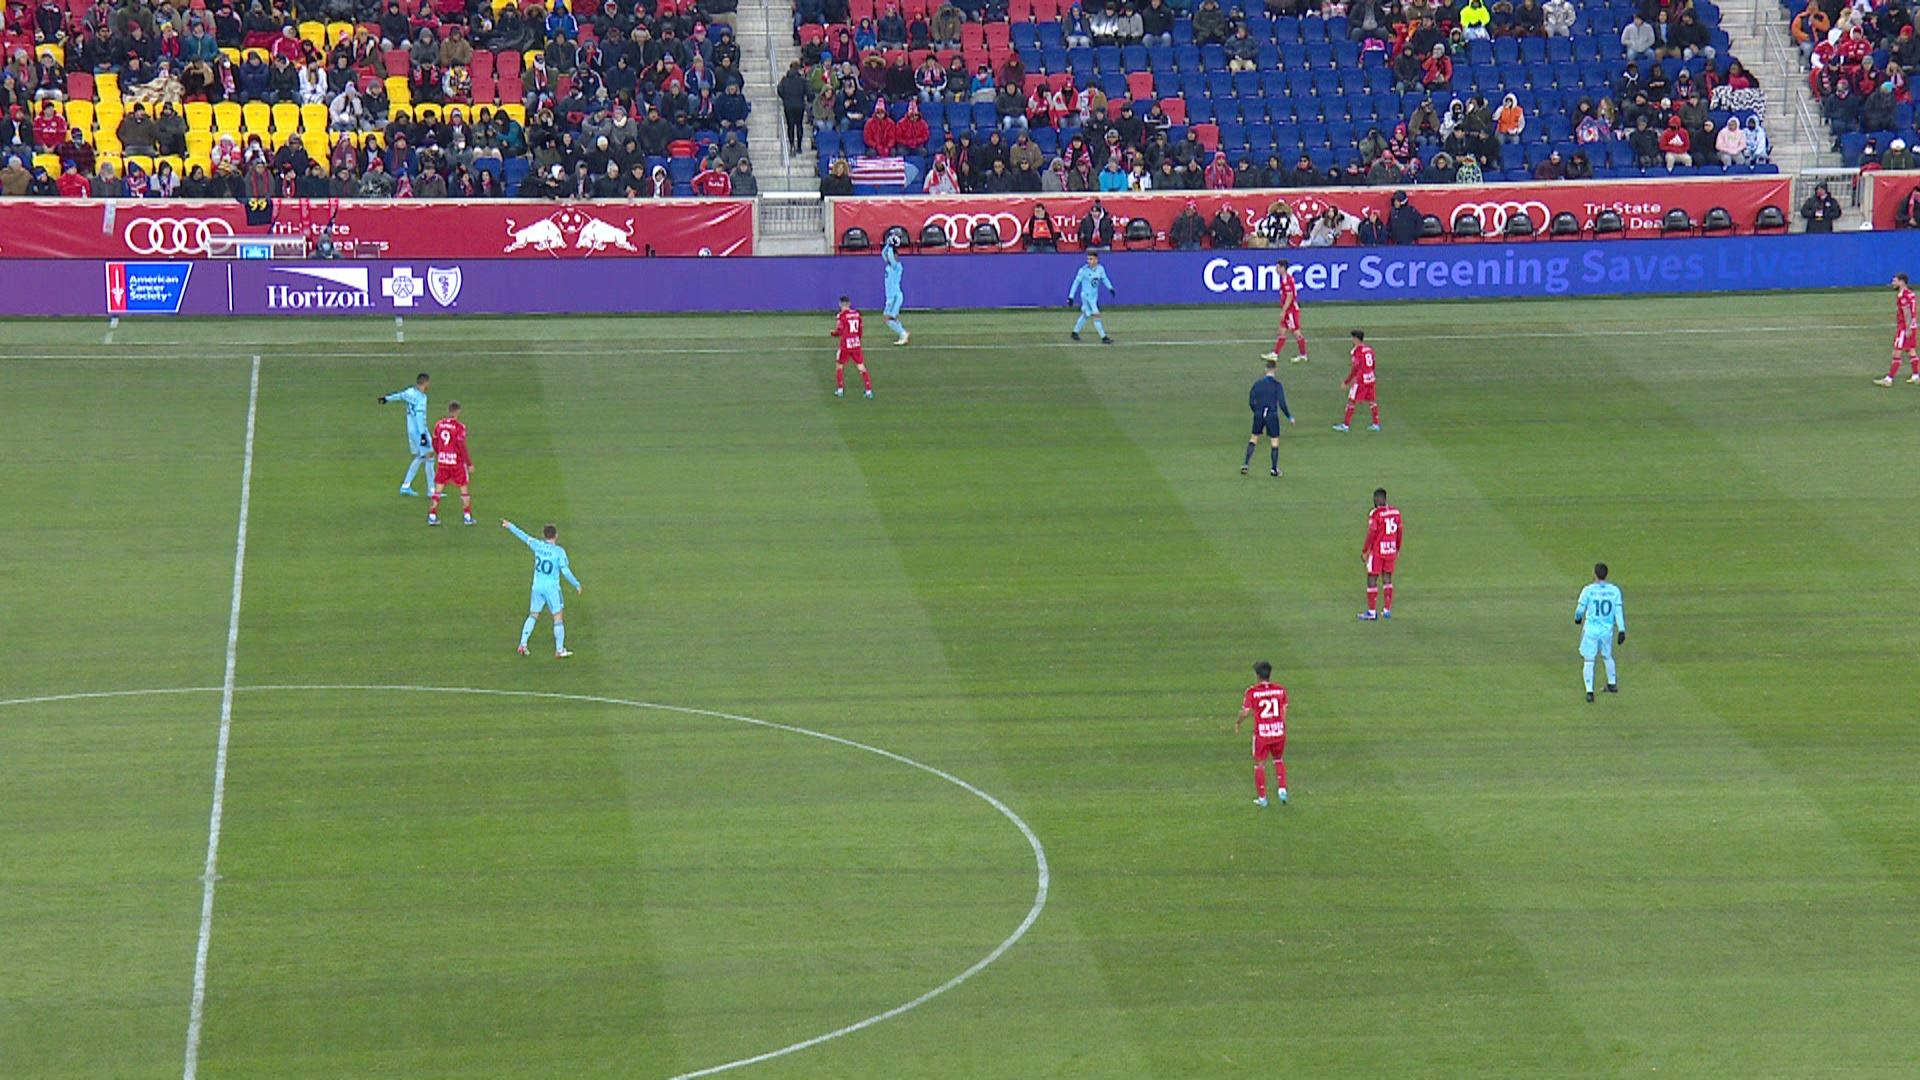football: (889, 235, 901, 247)
